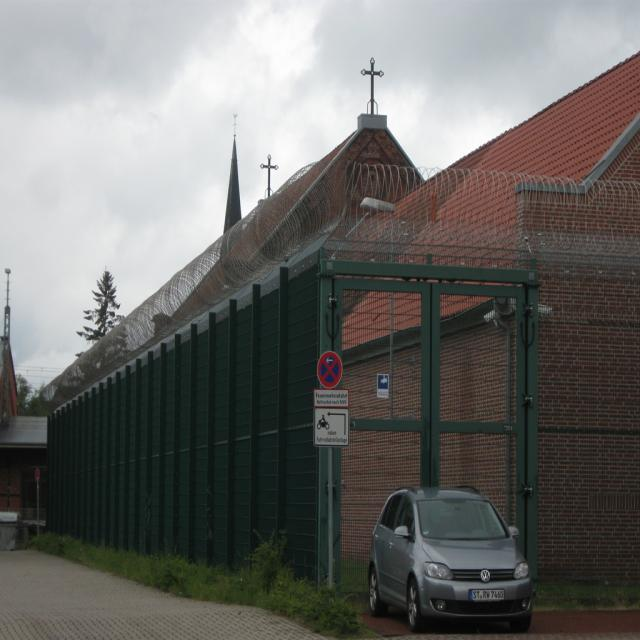Passenger Car: (368, 483, 537, 634)
